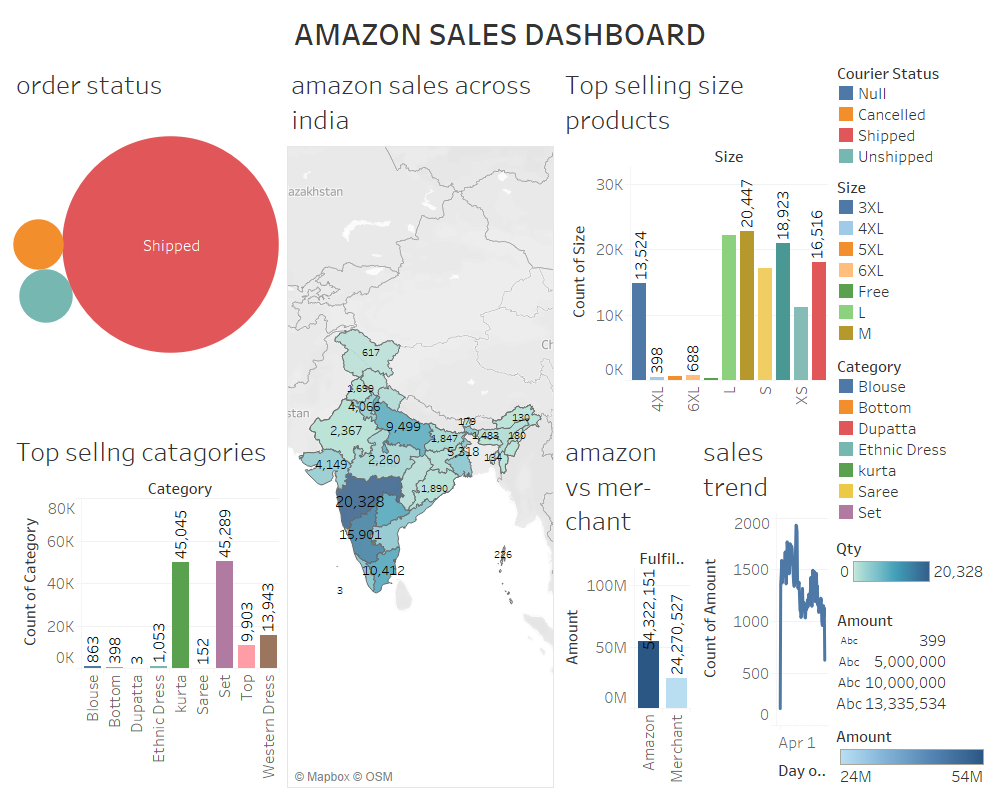

The page's visual inventory and layout, read from the dashboard file:
{"tool":"tableau","page":{"name":"Dashboard 1","canvas":[1000,800],"ordinal":0},"visuals":[{"type":"title","box":[8,8,984,49]},{"type":"worksheet","title":"order status","mark":"Circle","box":[8,57,274.7,367.5]},{"type":"worksheet","title":"amazon sales across india","mark":"Multipolygon","box":[282.7,57,274.7,735]},{"type":"worksheet","title":"Top selling size products","mark":"Automatic","rows":["Size"],"cols":["Size"],"box":[557.3,57,274.7,367.5]},{"type":"legend","title":"order status","param":"[federated.1o59p210hfte8r1e3ty40063z42v].[none:Courier Status:nk]","box":[832,57,160,114]},{"type":"legend","title":"Top selling size products","param":"[federated.1o59p210hfte8r1e3ty40063z42v].[none:Size:nk]","box":[832,171,160,180.5]},{"type":"legend","title":"Top sellng catagories","param":"[federated.1o59p210hfte8r1e3ty40063z42v].[none:Category:nk]","box":[832,351.5,160,180.5]},{"type":"worksheet","title":"Top sellng catagories","mark":"Automatic","rows":["Category"],"cols":["Category"],"box":[8,424.5,274.7,367.5]},{"type":"worksheet","title":"amazon vs merchant","mark":"Automatic","rows":["Amount"],"cols":["Fulfilment"],"box":[557.3,424.5,137.3,367.5]},{"type":"worksheet","title":"sales trend","mark":"Automatic","rows":["Amount"],"cols":["Date"],"box":[694.7,424.5,137.3,367.5]},{"type":"legend","title":"amazon sales across india","param":"[federated.1o59p210hfte8r1e3ty40063z42v].[sum:Qty:qk]","box":[832,532,160,73]},{"type":"legend","title":"amazon sales across india","param":"[federated.1o59p210hfte8r1e3ty40063z42v].[sum:Amount:qk]","box":[832,605,160,114]},{"type":"legend","title":"amazon vs merchant","param":"[federated.1o59p210hfte8r1e3ty40063z42v].[sum:Amount:qk]","box":[832,719,160,73]}]}

Visuals, with their boxes in screenshot pixels (x1, y1, x2, y2), scaled from the page's 1000x800 canvas onto the 1000x800 screenshot:
title: {"left": 8, "top": 8, "right": 992, "bottom": 57}
"order status" worksheet (Circle marks): {"left": 8, "top": 57, "right": 283, "bottom": 424}
"amazon sales across india" worksheet (Multipolygon marks): {"left": 283, "top": 57, "right": 557, "bottom": 792}
"Top selling size products" worksheet: {"left": 557, "top": 57, "right": 832, "bottom": 424}
"order status" legend: {"left": 832, "top": 57, "right": 992, "bottom": 171}
"Top selling size products" legend: {"left": 832, "top": 171, "right": 992, "bottom": 352}
"Top sellng catagories" legend: {"left": 832, "top": 352, "right": 992, "bottom": 532}
"Top sellng catagories" worksheet: {"left": 8, "top": 424, "right": 283, "bottom": 792}
"amazon vs merchant" worksheet: {"left": 557, "top": 424, "right": 695, "bottom": 792}
"sales trend" worksheet: {"left": 695, "top": 424, "right": 832, "bottom": 792}
"amazon sales across india" legend: {"left": 832, "top": 532, "right": 992, "bottom": 605}
"amazon sales across india" legend: {"left": 832, "top": 605, "right": 992, "bottom": 719}
"amazon vs merchant" legend: {"left": 832, "top": 719, "right": 992, "bottom": 792}
